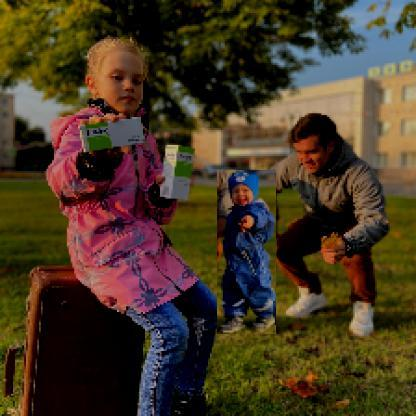child: (45, 38, 224, 415), (218, 171, 278, 336)
